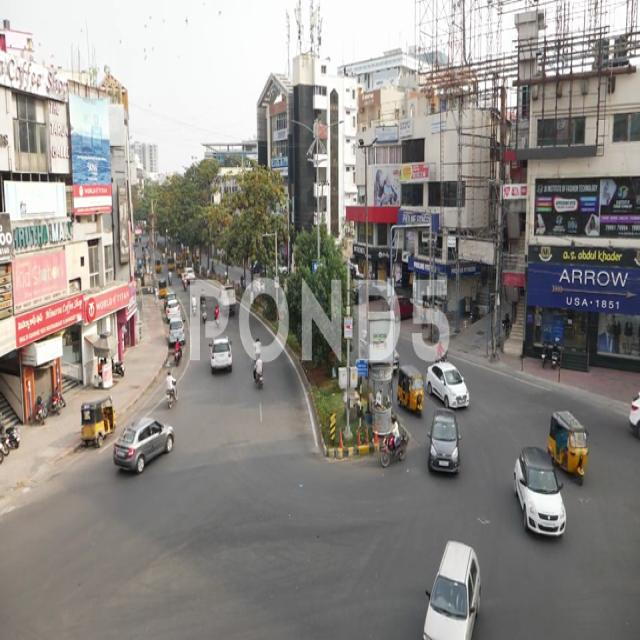car: (505, 438, 570, 548), (417, 536, 484, 640), (114, 418, 175, 476), (426, 358, 471, 414), (425, 411, 460, 481), (210, 334, 234, 377)
rikshaw: (546, 396, 595, 501), (78, 392, 116, 448), (397, 364, 425, 422)
